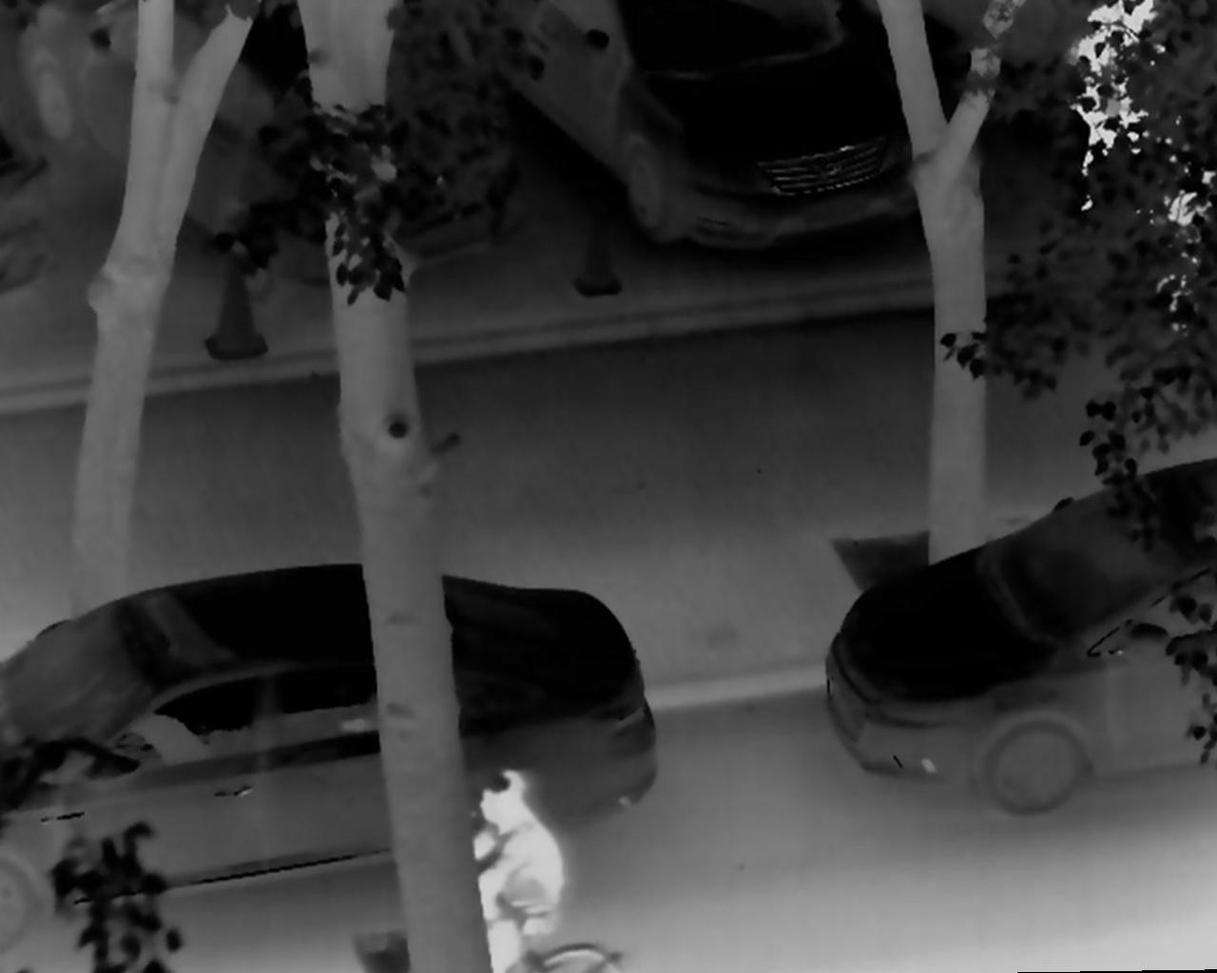person: (437, 760, 565, 973), (1147, 150, 1217, 342)
